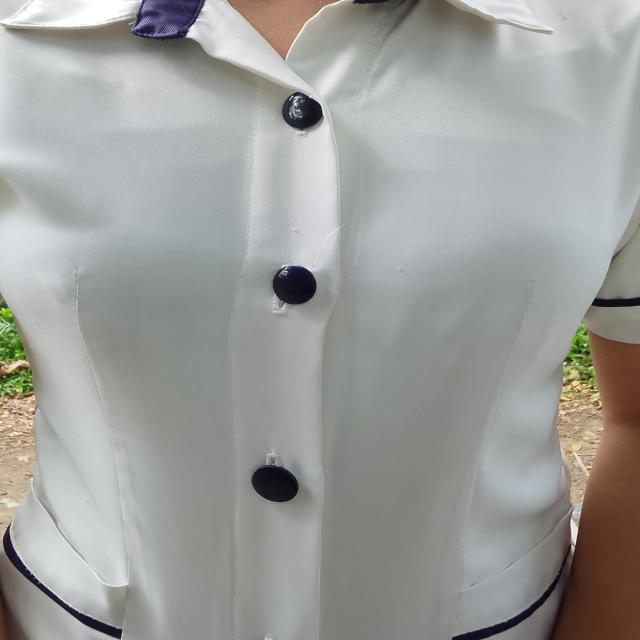education_female_uniform: (3, 3, 640, 640), (0, 451, 220, 640), (0, 474, 168, 640), (421, 518, 640, 640), (0, 484, 154, 640), (452, 561, 640, 640), (11, 23, 85, 167)
